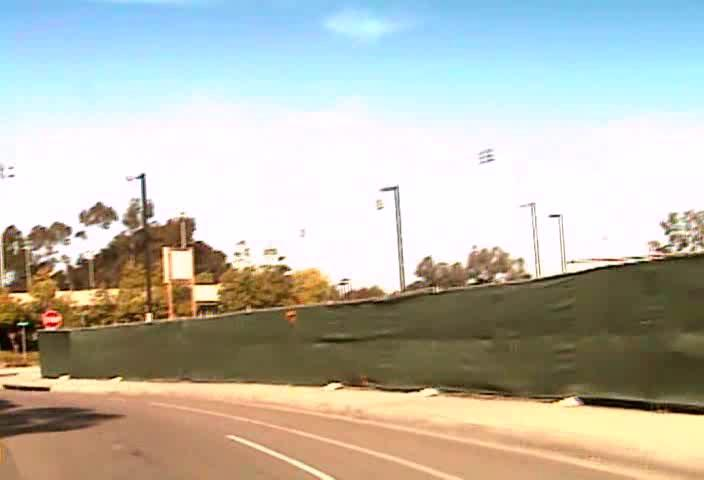stop: (41, 310, 62, 329)
